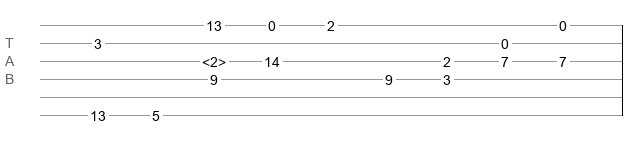0: (268, 18, 276, 28), (501, 36, 509, 46), (559, 18, 567, 28)
13: (90, 108, 106, 118), (206, 18, 222, 28)
14: (264, 54, 280, 64)
2: (327, 18, 335, 28), (443, 54, 451, 64)
3: (94, 36, 102, 46), (443, 72, 451, 82)
5: (152, 108, 160, 118)
7: (501, 54, 509, 64), (559, 54, 567, 64)
9: (210, 72, 218, 82), (385, 72, 393, 82)
harmonic: (202, 54, 226, 64)
